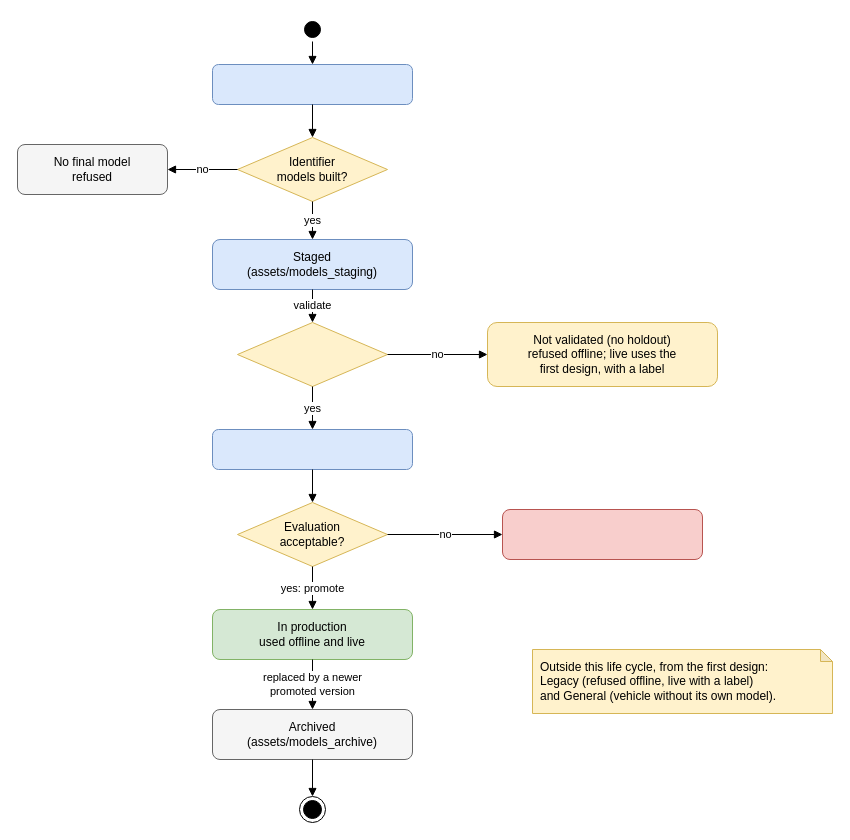
The diagram is 850 pixels wide and 840 high, and some of its shapes have lost their labels. The centre of each missing label's shape, as x and y in pixels:
"Evaluated on the holdout" belongs at point (312, 449).
"Held back refused offline and live" belongs at point (602, 534).
"Holdout recording?" belongs at point (312, 354).
"Training run" belongs at point (312, 84).
